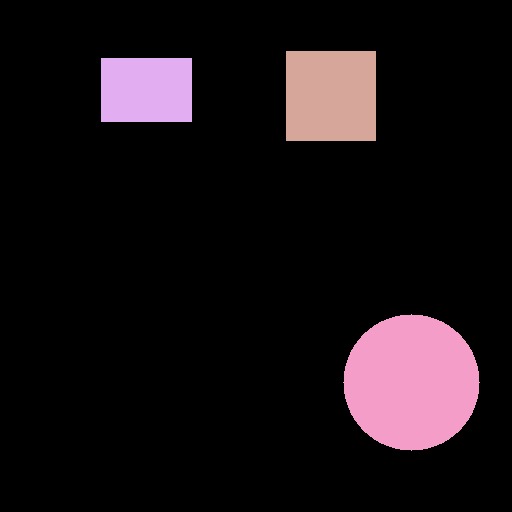circle: (343, 314, 479, 450)
rectangle: (101, 58, 191, 121)
square: (286, 51, 375, 140)
